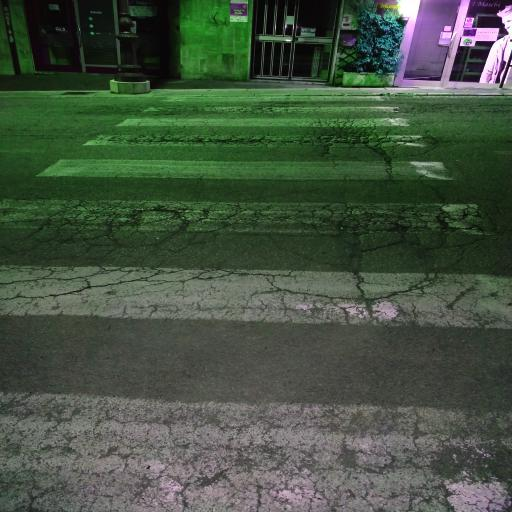crosswalk: (26, 130, 472, 190)
